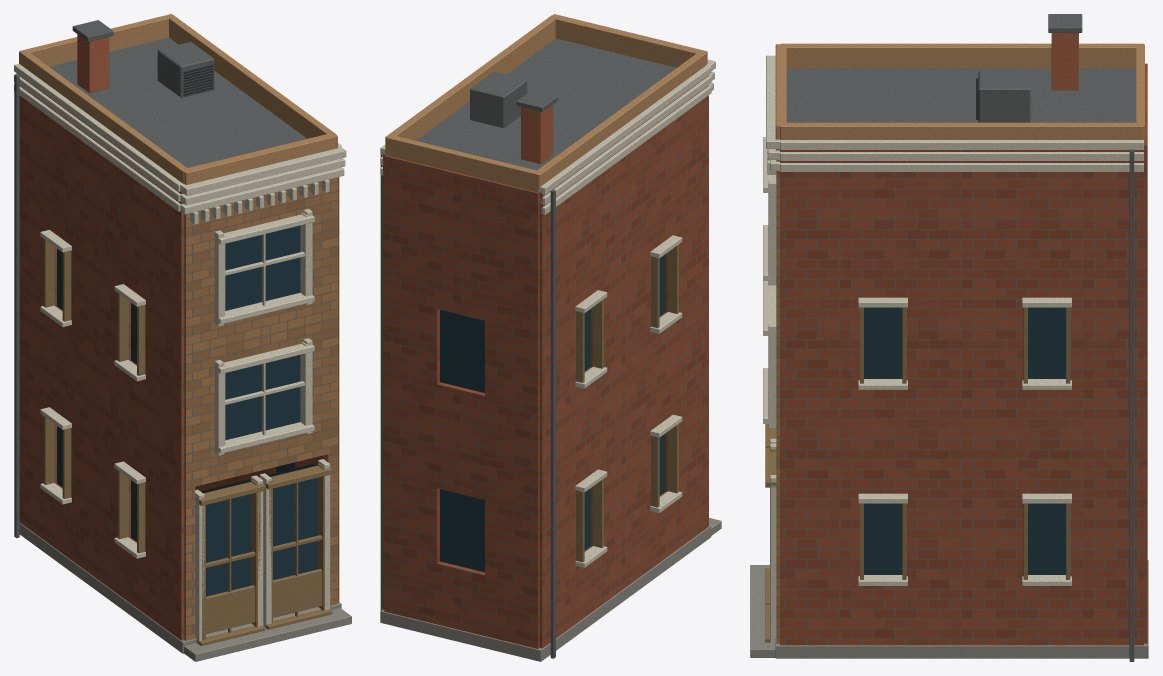
Rendered from OFFC10_lod1.glb.
3 views of the same model, side by side, from view 1: azimuth 30°, elevation 25°; view 2: azimuth 150°, elevation 25°; view 3: azimuth 270°, elevation 25° (orthographic). The views are drawn at different scales.
Visible parts, largest first — view 1: OFFC10_LOD1; view 2: OFFC10_LOD1; view 3: OFFC10_LOD1.
Boxes of the visible parts, x1,y1,x2,y2 form: OFFC10_LOD1: [14, 14, 351, 661]; OFFC10_LOD1: [380, 14, 721, 661]; OFFC10_LOD1: [750, 14, 1148, 661].
Size of the model in its own units: 3.71 by 10.45 by 6.57.
Materials: 11 (9 with a texture image).
